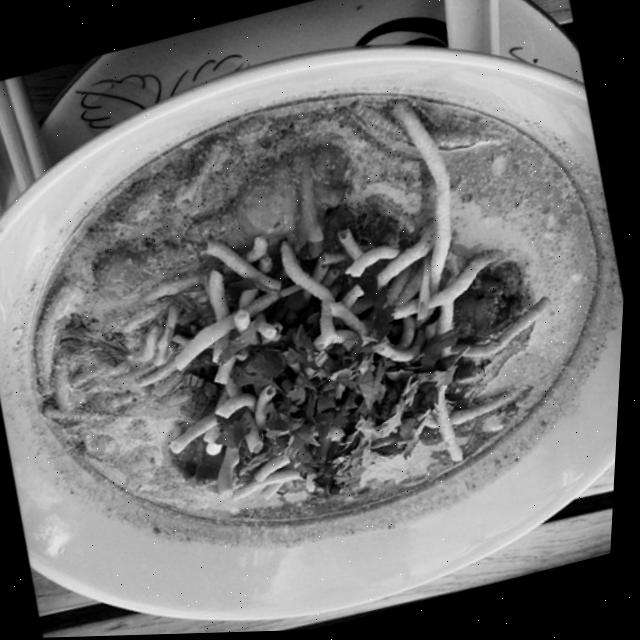面条主食: (8, 50, 634, 607)
